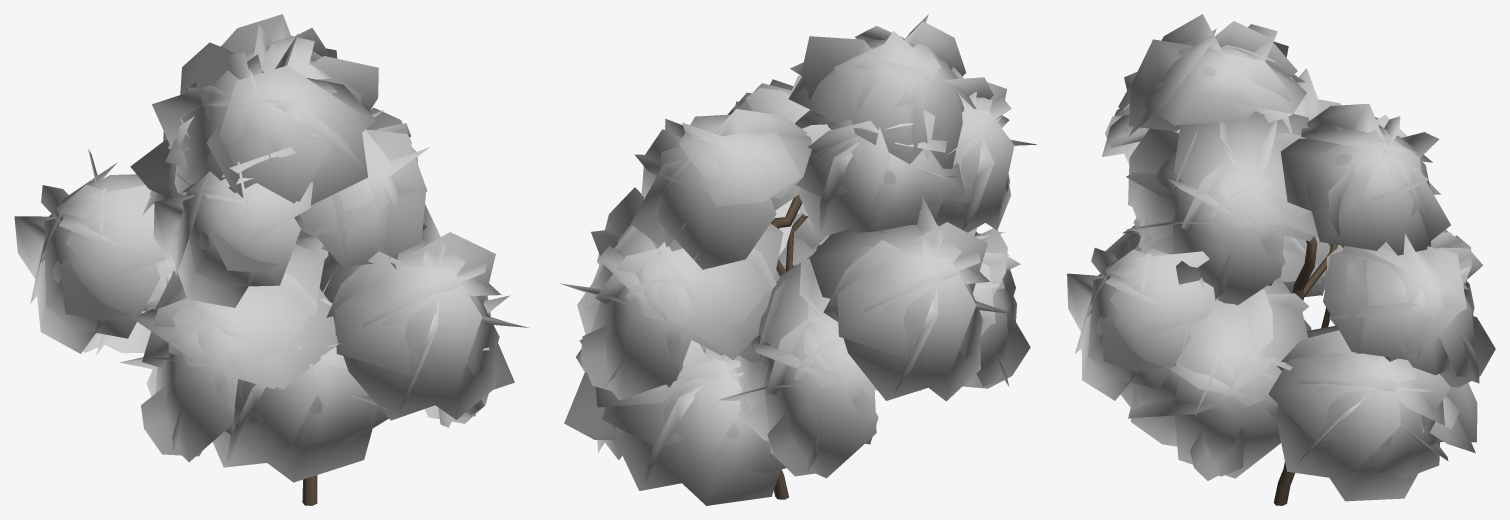
Rendered from MSH_fwOF_TreeSapling_02B.fbx.
3 renders of one model, left to right at view 1: azimuth 30°, elevation 25°; view 2: azimuth 150°, elevation 25°; view 3: azimuth 270°, elevation 25°, orthographic. The views are drawn at different scales.
Parts seen in each view (by area): view 1: MSH_fwOF_TreeSapling_02B_LOD0; view 2: MSH_fwOF_TreeSapling_02B_LOD0; view 3: MSH_fwOF_TreeSapling_02B_LOD0.
Part boxes in pixels (box(x1,y1,x2,y2)): MSH_fwOF_TreeSapling_02B_LOD0: box(14, 14, 529, 505); MSH_fwOF_TreeSapling_02B_LOD0: box(560, 14, 1036, 505); MSH_fwOF_TreeSapling_02B_LOD0: box(1067, 14, 1495, 505).
Size of what is drawn, in the model's own units: 1.25 by 1.42 by 1.24.
